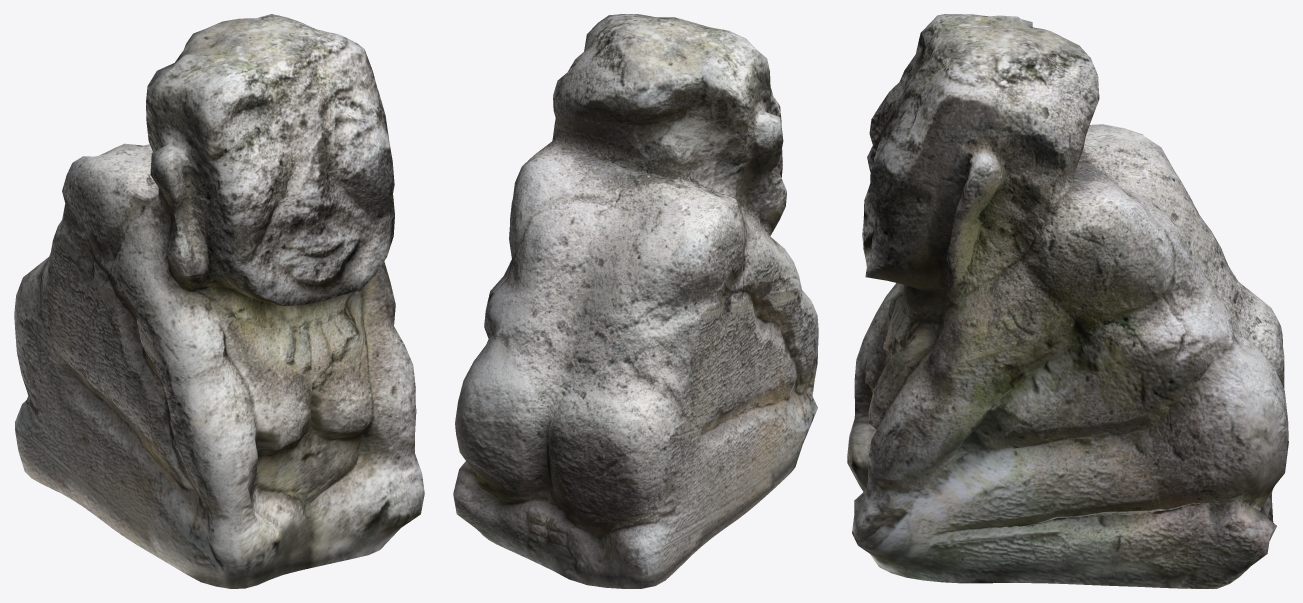
File: IDOL.glb
3 views of the same model, side by side, from view 1: azimuth 30°, elevation 25°; view 2: azimuth 150°, elevation 25°; view 3: azimuth 270°, elevation 25° (orthographic). The views are drawn at different scales.
Visible parts, largest first — view 1: RETOPO_IDOL; view 2: RETOPO_IDOL; view 3: RETOPO_IDOL.
Part boxes in pixels (x1=…): RETOPO_IDOL: x1=14, y1=14, x2=424, y2=588; RETOPO_IDOL: x1=453, y1=14, x2=818, y2=588; RETOPO_IDOL: x1=847, y1=14, x2=1288, y2=588.
Bounding box in the file's own units: 0.2479 × 0.5029 × 0.392.
Materials: 1 (1 with a texture image).
